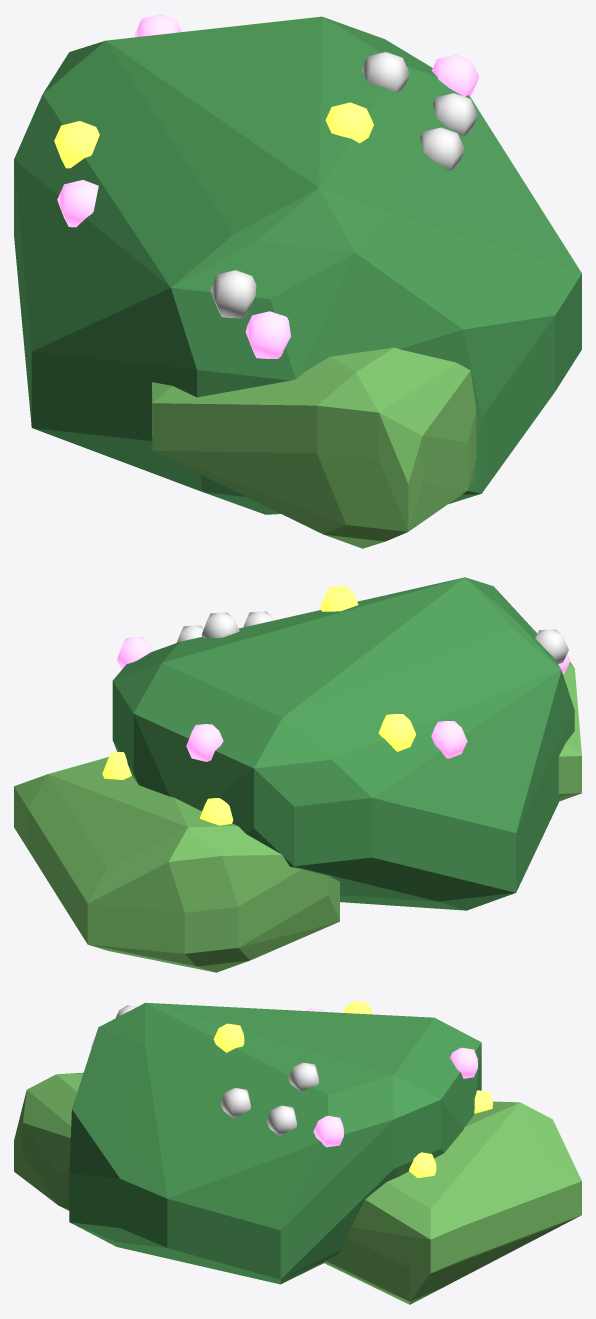
Rendered from bush_v2.glb.
3 views of the same model, one above another, from view 1: azimuth 30°, elevation 25°; view 2: azimuth 150°, elevation 25°; view 3: azimuth 270°, elevation 25° (orthographic). The views are drawn at different scales.
Parts seen in each view (by area): view 1: Bush_4FA35A, BushLight_7CC66A, FlowerWhite_FFFFFF, FlowerPink_FF7AB8, FlowerYellow_FFD447; view 2: Bush_4FA35A, BushLight_7CC66A, FlowerYellow_FFD447, FlowerPink_FF7AB8, FlowerWhite_FFFFFF; view 3: Bush_4FA35A, BushLight_7CC66A, FlowerWhite_FFFFFF, FlowerYellow_FFD447, FlowerPink_FF7AB8.
Part boxes in pixels (x1,y1,x2,y2): Bush_4FA35A: (14, 16, 581, 514); BushLight_7CC66A: (152, 347, 476, 548); FlowerWhite_FFFFFF: (210, 51, 477, 318); FlowerPink_FF7AB8: (57, 14, 479, 358); FlowerYellow_FFD447: (54, 102, 373, 168); Bush_4FA35A: (112, 577, 574, 910); BushLight_7CC66A: (14, 661, 581, 972); FlowerYellow_FFD447: (102, 586, 416, 825); FlowerPink_FF7AB8: (117, 637, 570, 761); FlowerWhite_FFFFFF: (176, 611, 568, 664); Bush_4FA35A: (69, 1002, 481, 1284); BushLight_7CC66A: (14, 1072, 581, 1304); FlowerWhite_FFFFFF: (116, 1005, 318, 1136); FlowerYellow_FFD447: (213, 1001, 492, 1177); FlowerPink_FF7AB8: (90, 1008, 477, 1147).
Size of the model in its own units: 6.26 by 3.83 by 8.95.
